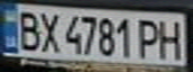1: (115, 15, 136, 58)
4: (60, 11, 81, 55)
7: (78, 12, 100, 55)
8: (97, 15, 118, 56)
B: (12, 7, 42, 52)
H: (154, 16, 187, 60)
P: (136, 16, 163, 60)
X: (36, 8, 63, 53)
